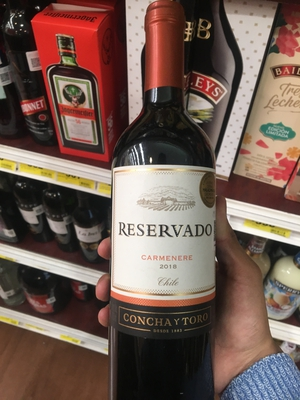reservado carmenere: (97, 24, 233, 400)
